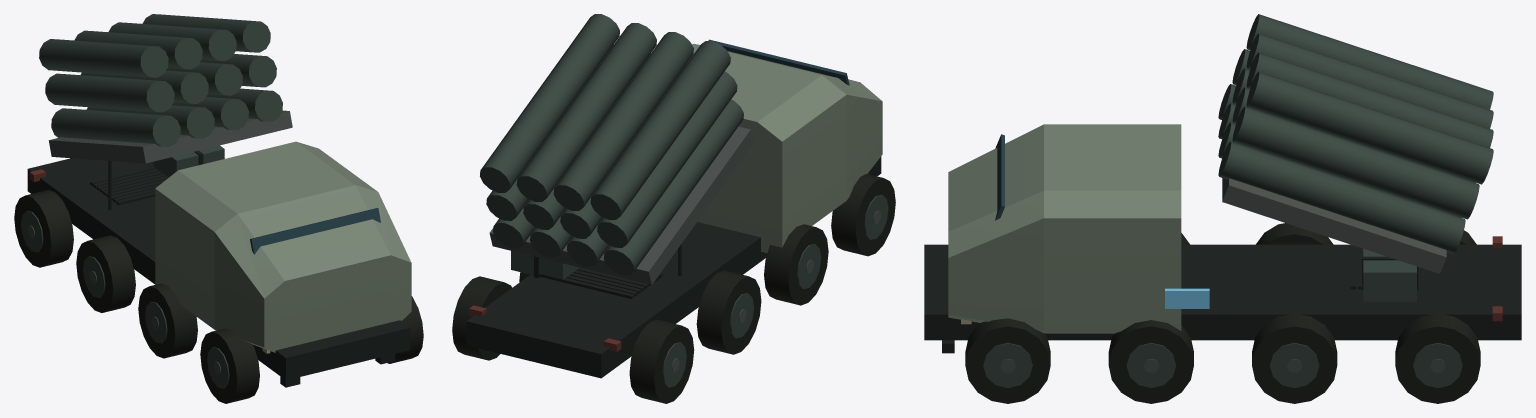
The model's file is mlrs.glb.
3 renders of one model, left to right at view 1: azimuth 30°, elevation 25°; view 2: azimuth 150°, elevation 25°; view 3: azimuth 270°, elevation 25°, orthographic. The views are drawn at different scales.
Visible parts, largest first — view 1: equipment (×2), armor, glass; view 2: equipment (×2), armor, glass; view 3: equipment (×2), armor, marking, glass.
Part boxes in pixels (left/top/right/bottom): equipment (×2): left=14, top=14, right=423, bottom=403; armor: left=155, top=141, right=411, bottom=352; glass: left=250, top=208, right=380, bottom=254; equipment (×2): left=452, top=14, right=895, bottom=403; armor: left=688, top=44, right=882, bottom=252; glass: left=708, top=39, right=849, bottom=85; equipment (×2): left=924, top=14, right=1521, bottom=403; armor: left=948, top=124, right=1181, bottom=333; marking: left=1165, top=288, right=1209, bottom=308; glass: left=995, top=134, right=1004, bottom=220.
Bounding box in the file's own units: 2.84 × 3.8 × 6.7.
